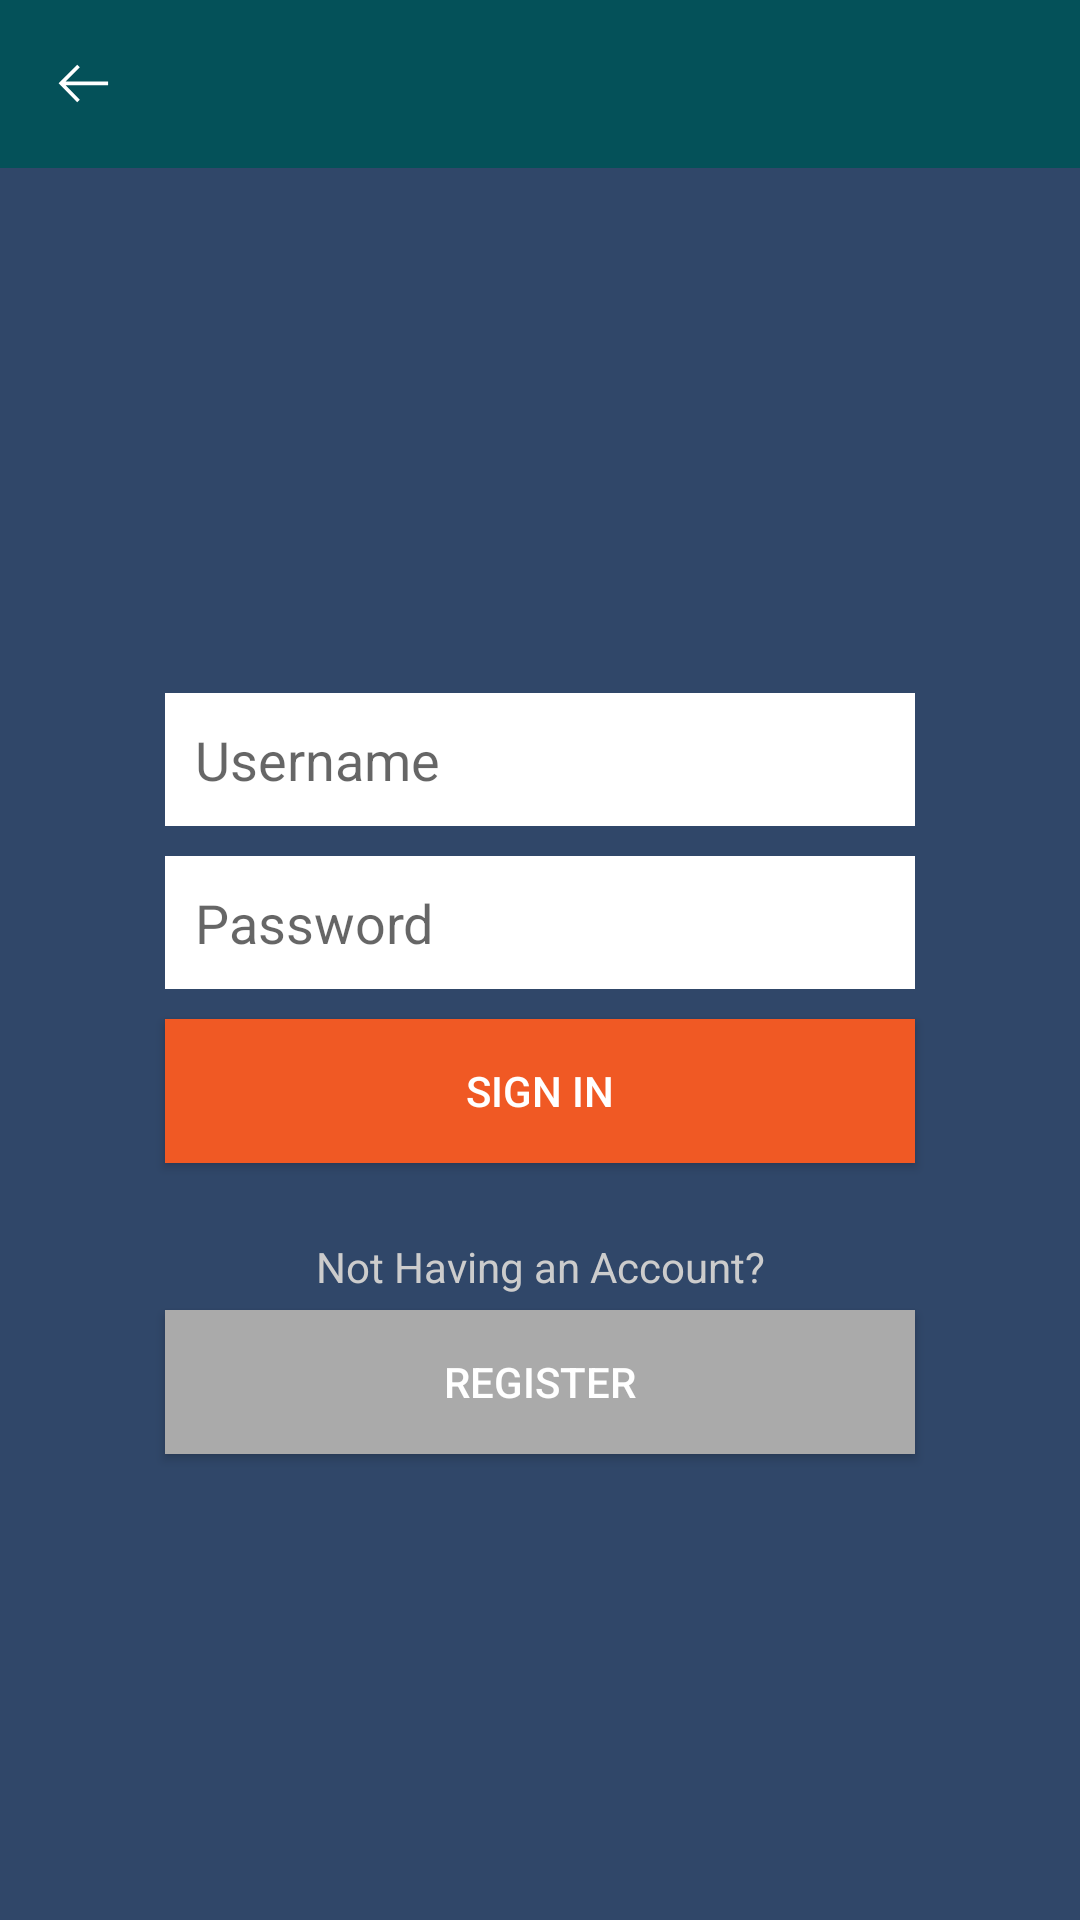

Icon bounding boxes for this 1080x1920 phone screenshot, format (x1=x1, y1=y1, x2=x2, y2=y2):
back: (x1=58, y1=65, x2=108, y2=102)
